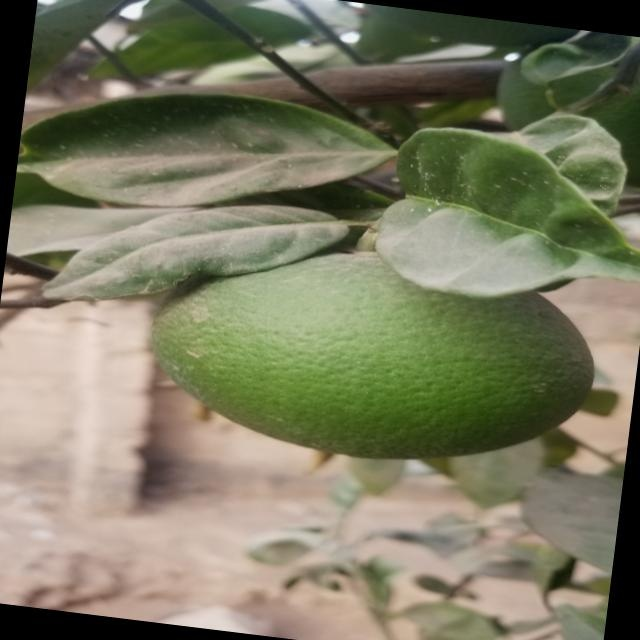agrume: (149, 234, 601, 480)
